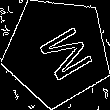M_SW: (24, 18, 90, 84)
